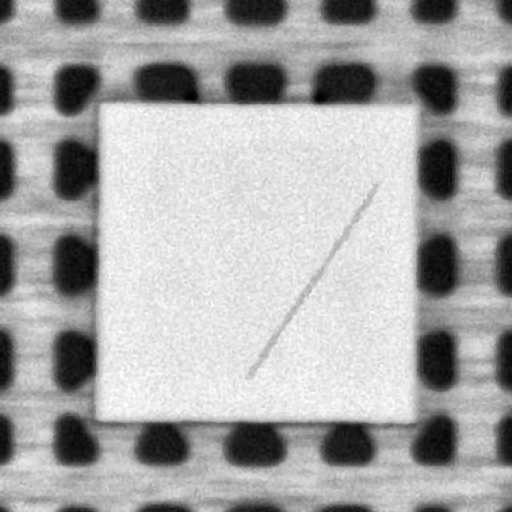DIE_CRACK: (247, 184, 376, 377)
